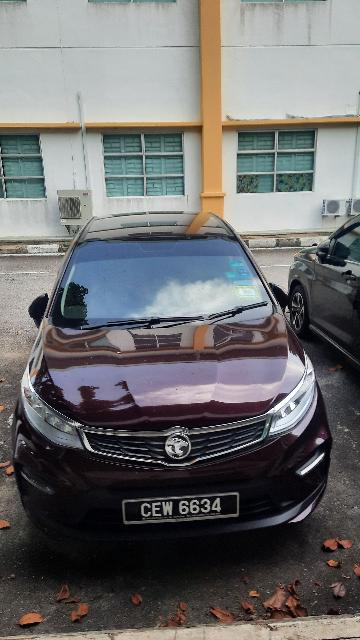License_Plate: (119, 492, 243, 525)
car: (4, 210, 339, 549)
